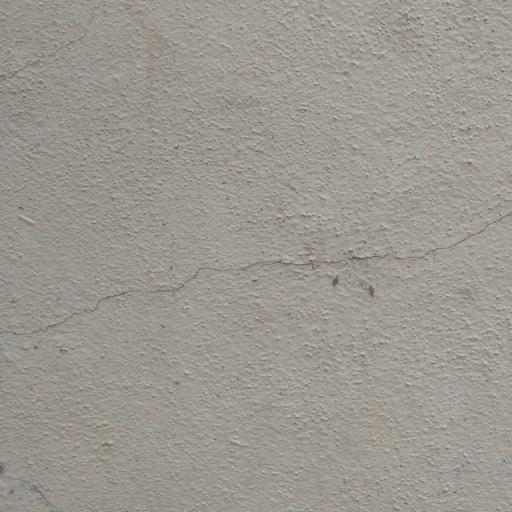minor_crack: (0, 192, 512, 336)
